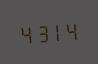four: (18, 22, 32, 45), (63, 19, 77, 41)
one: (48, 20, 62, 43)
three: (33, 21, 47, 44)
